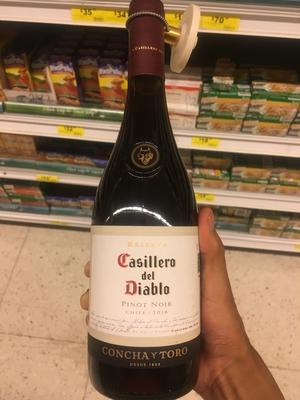casillero del diablo pinot noir: (86, 1, 211, 396)
